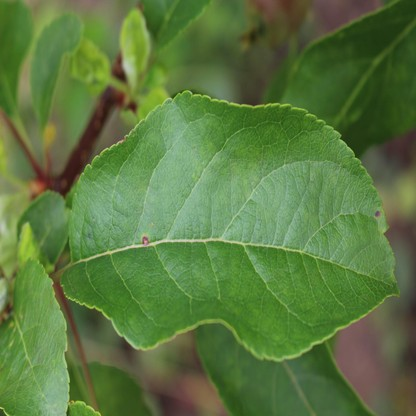rust: (141, 235, 149, 244), (9, 338, 14, 349), (8, 322, 14, 326)
